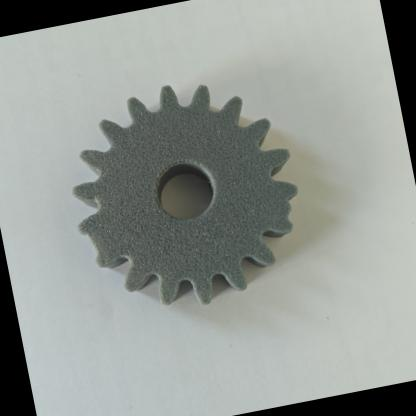defect: (251, 150, 324, 250), (60, 198, 146, 282)
gear: (36, 50, 340, 342)
